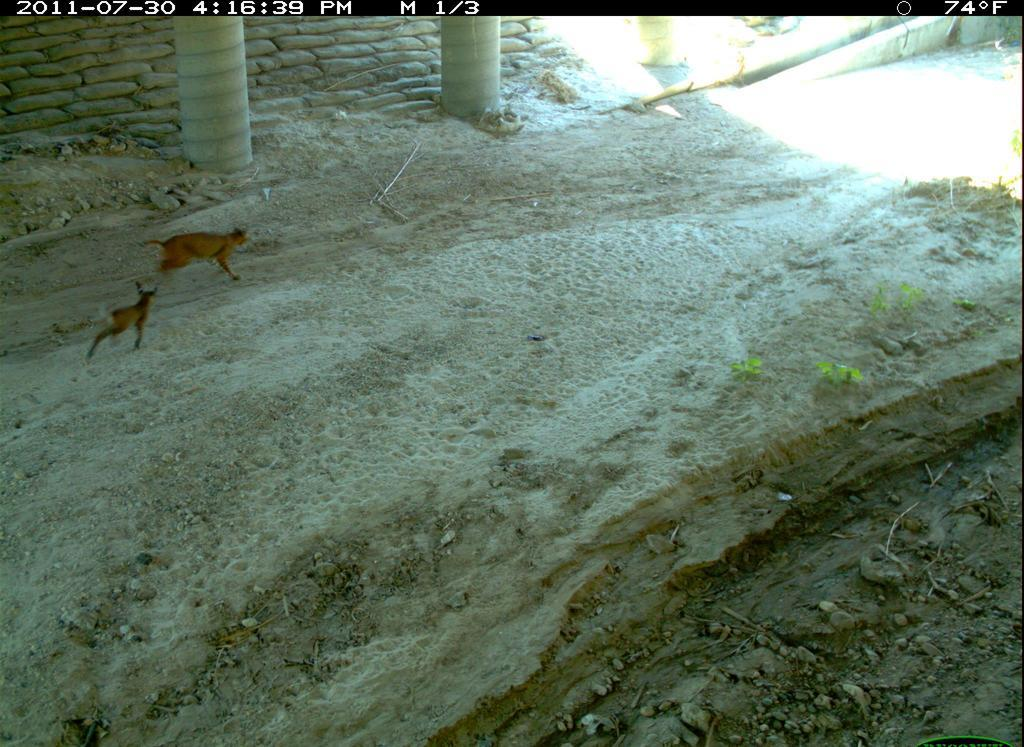bobcat: (75, 279, 166, 367), (137, 226, 260, 289)
